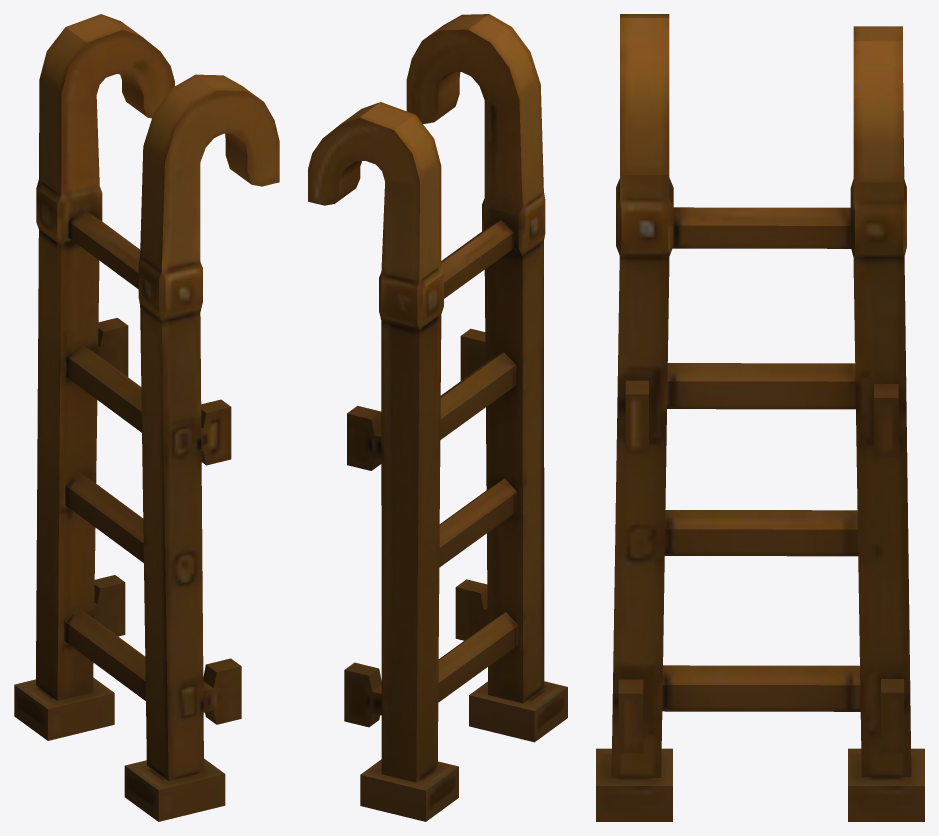
Rendered from sewer_maintenance_ladder.fbx.
The picture shows the model from 3 angles, left to right: view 1: azimuth 30°, elevation 25°; view 2: azimuth 150°, elevation 25°; view 3: azimuth 270°, elevation 25°; orthographic projection. The views are drawn at different scales.
Visible parts, largest first — view 1: sewer_maintenance_ladder; view 2: sewer_maintenance_ladder; view 3: sewer_maintenance_ladder.
Boxes of the visible parts, left/top/right/bottom form: sewer_maintenance_ladder: left=14, top=14, right=279, bottom=821; sewer_maintenance_ladder: left=308, top=14, right=567, bottom=821; sewer_maintenance_ladder: left=596, top=14, right=924, bottom=821.
Size of the model in its own units: 34.67 by 178 by 65.75.
1 material, 1 textured.
